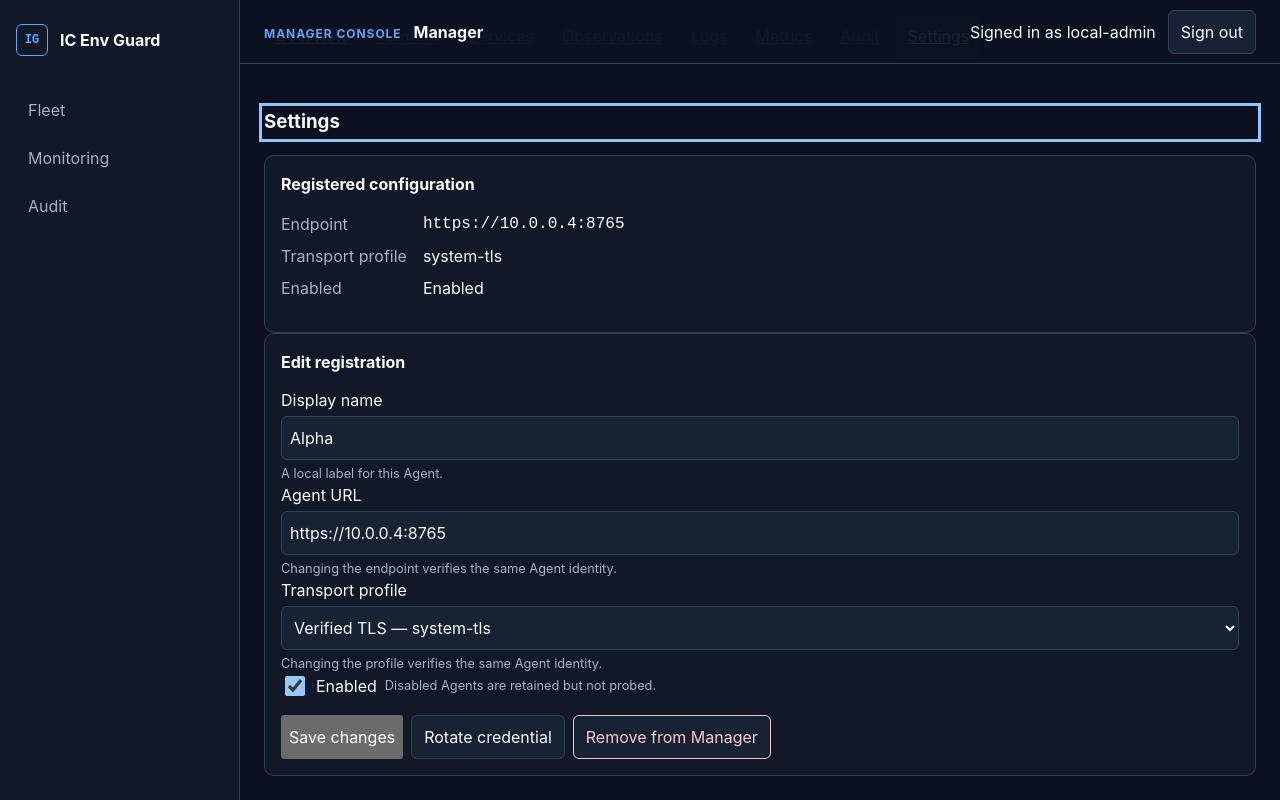
it: Agent Settings mutations › keeps an agent_in_use removal dialog actionable
The image size is (1280, 800).
(page scrolled)
Click the button "Remove from Manager". click: x=672, y=737
box: top-left (573, 715), bottom-right (771, 759)
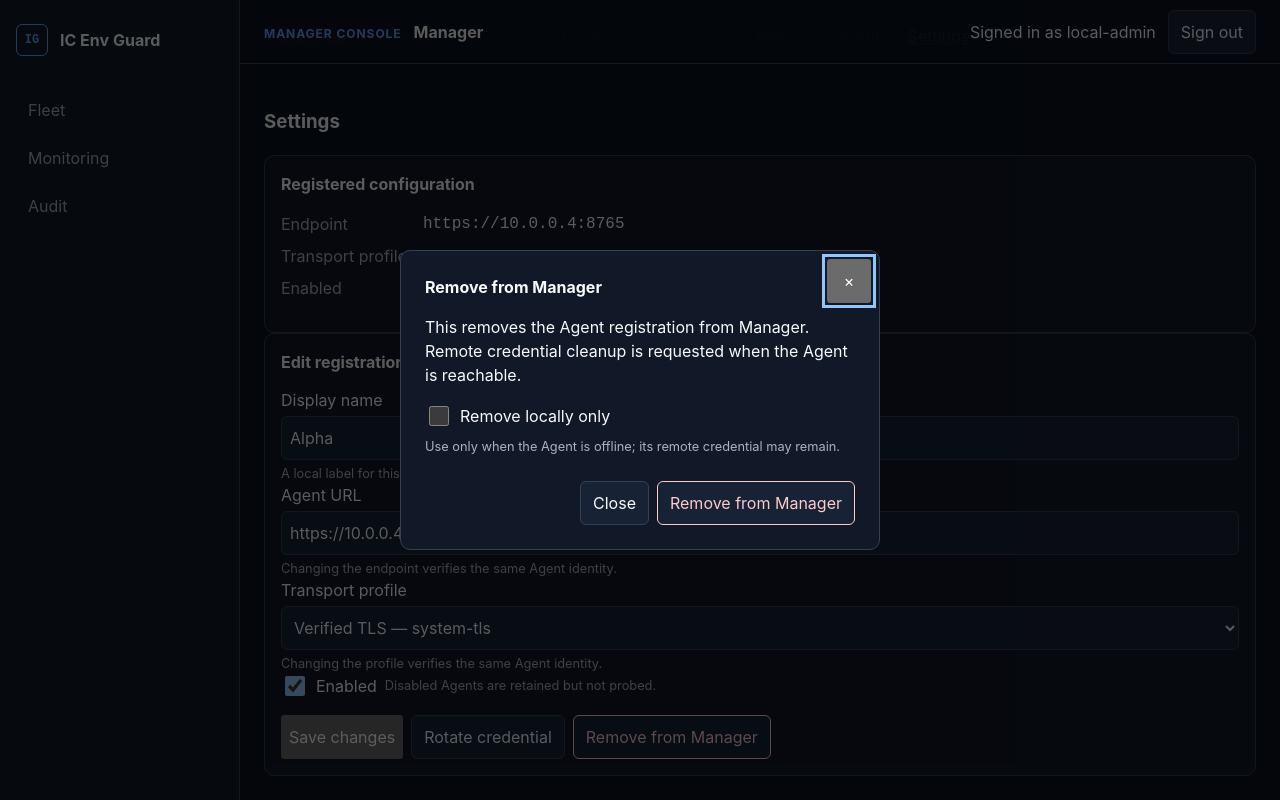
Click the button "Remove from Manager". click: x=756, y=503
box: top-left (657, 481), bottom-right (855, 525)
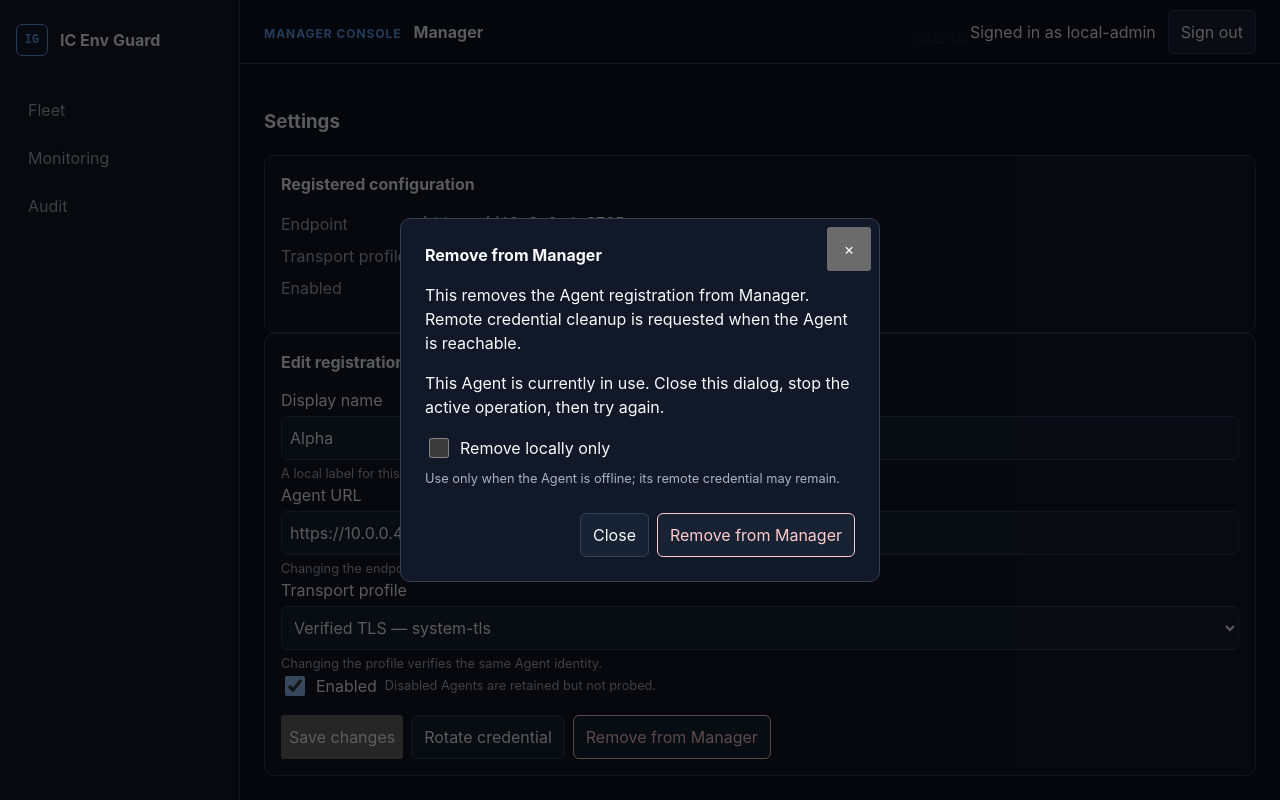
Expected: the button named "Close" is shown, top-left (827, 227), bottom-right (871, 271)
Expected: the text "currently in use" is shown, top-left (425, 373), bottom-right (850, 417)
